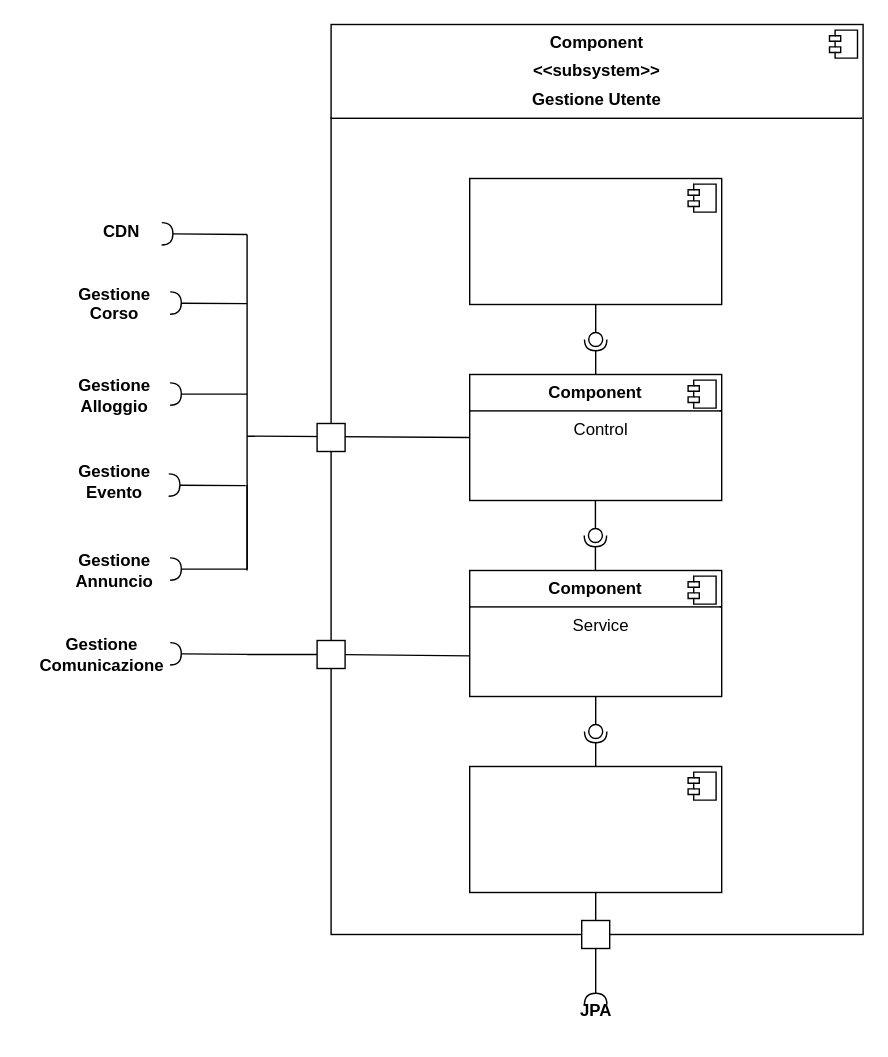
Image size: 888x1057. Some labels were removed from this diagram. Each missing label, with the box of its shape:
Component DAO: (468, 765, 722, 892)
Component GUI: (468, 177, 722, 304)
